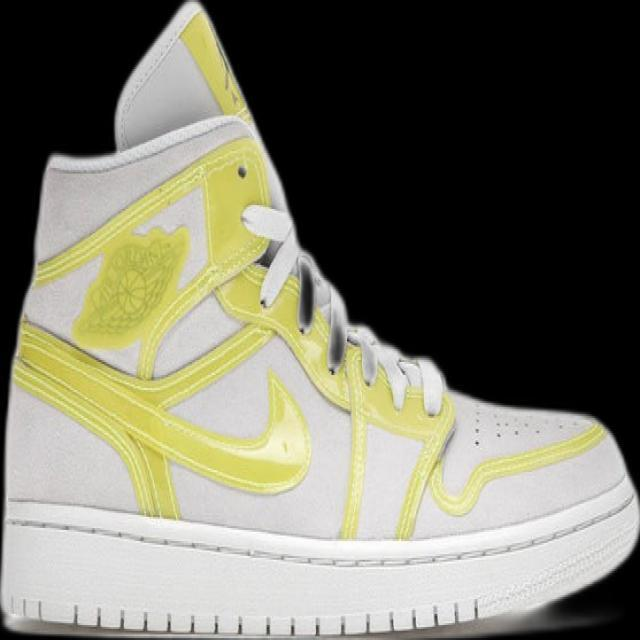J1_MateComp: (0, 0, 639, 639)
J1_ShoeLogo: (69, 222, 189, 350)
J1_StitchPattern: (13, 199, 451, 528), (333, 326, 606, 541), (3, 485, 637, 572), (237, 200, 447, 416), (11, 316, 182, 520), (335, 325, 455, 541), (2, 594, 484, 639), (238, 200, 352, 374), (428, 416, 607, 521), (342, 322, 447, 416), (337, 336, 372, 540)
